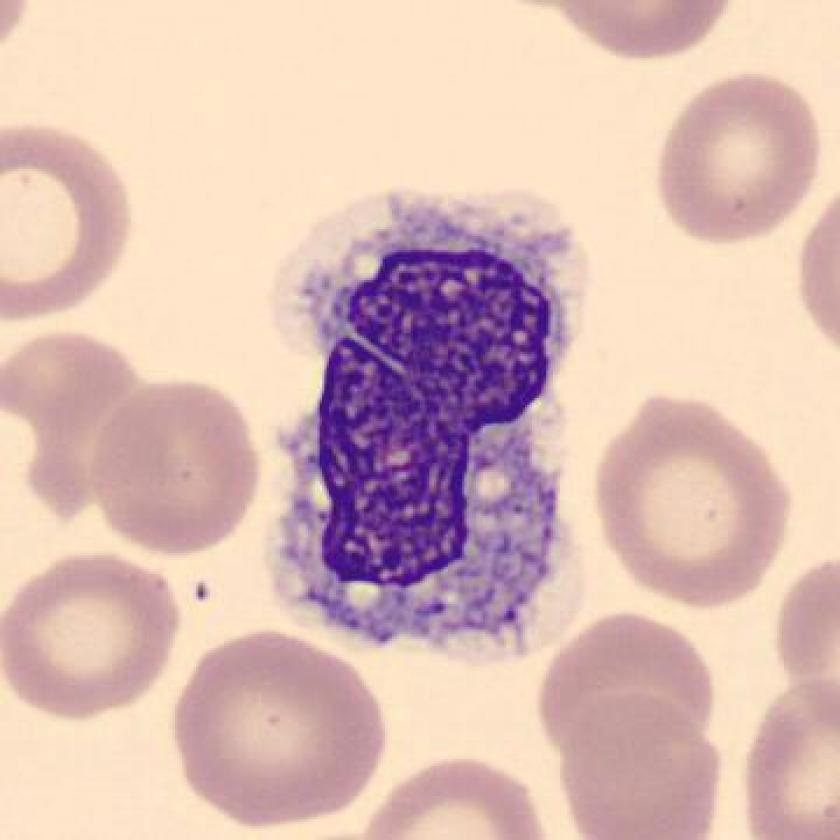monocyte: (253, 165, 619, 684)
